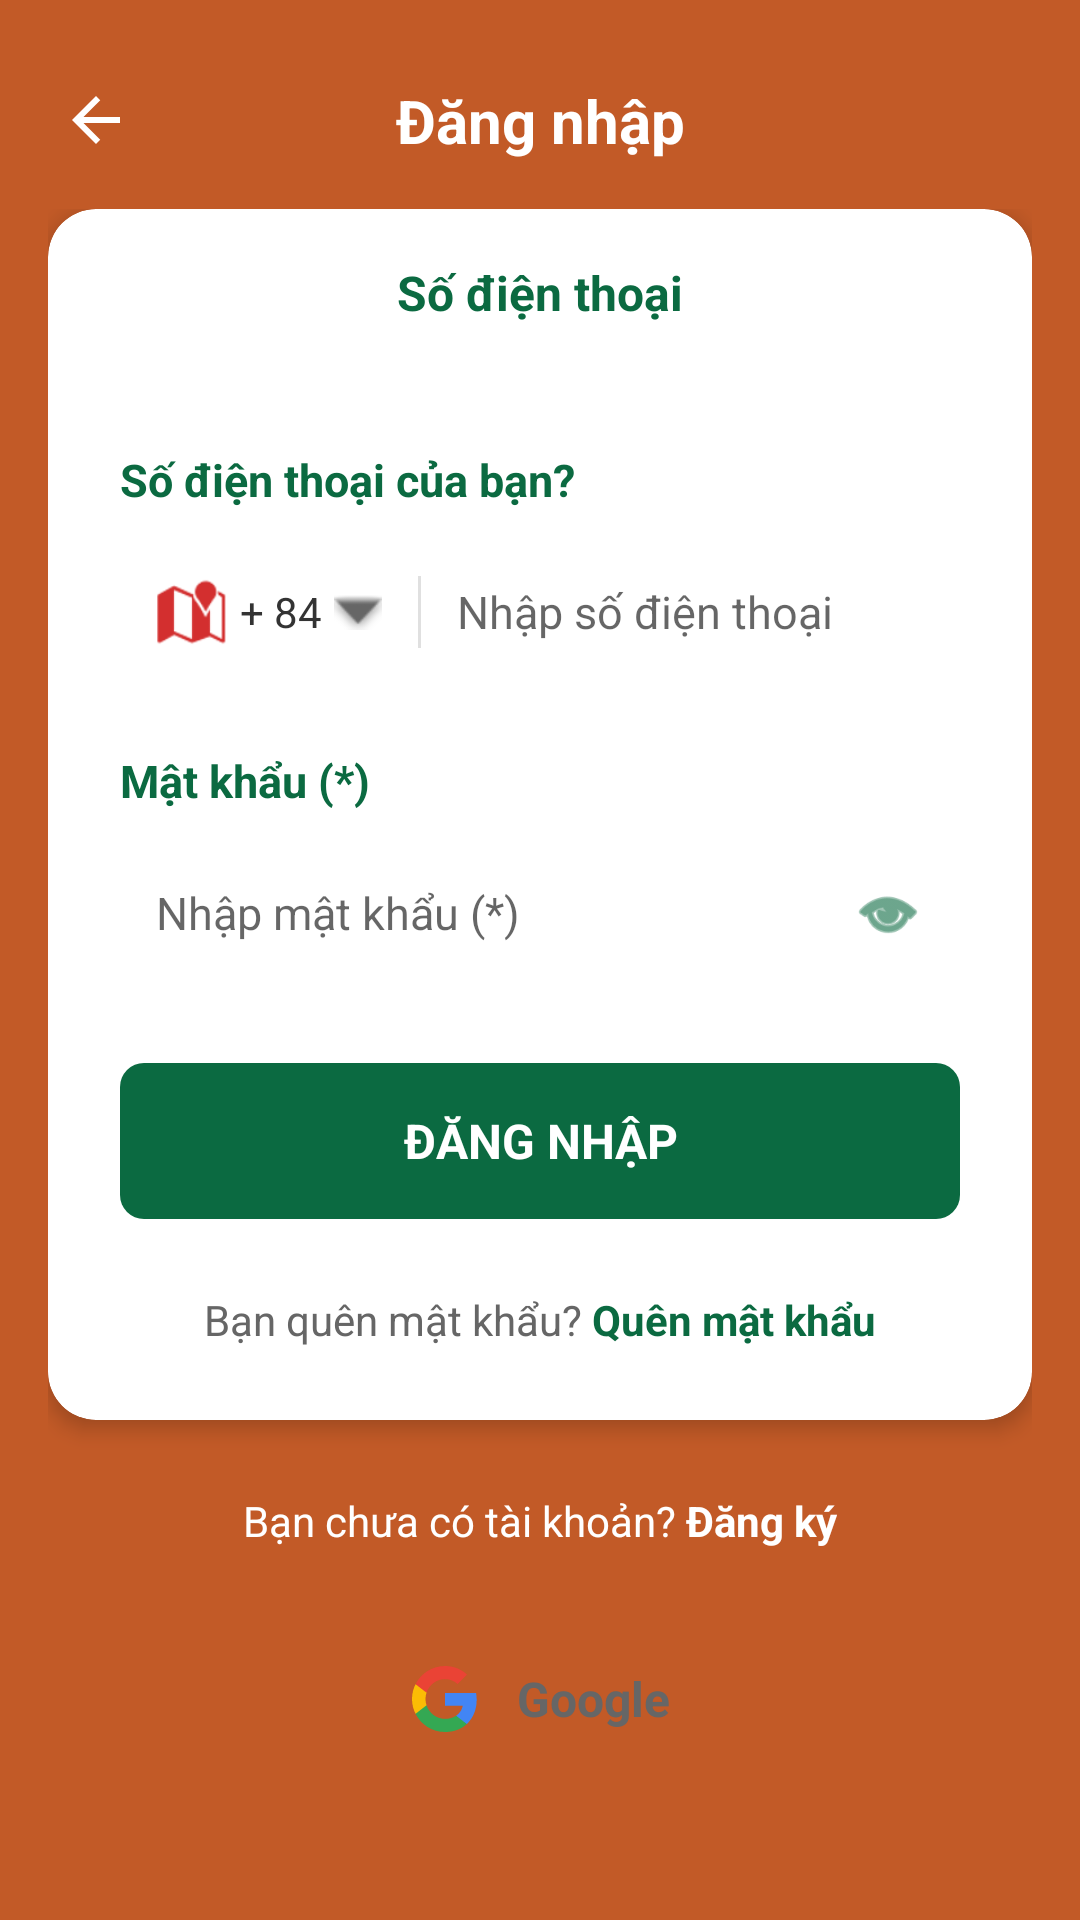

Where icons sit on this 1080px×1920px app screen, as (x1=x1, y1=y1, x2=x2, y2=y2):
arrow down float: (x1=334, y1=597, x2=382, y2=627)
arrow left: (x1=72, y1=96, x2=120, y2=144)
map: (x1=157, y1=580, x2=226, y2=644)
view: (x1=859, y1=896, x2=917, y2=933)
